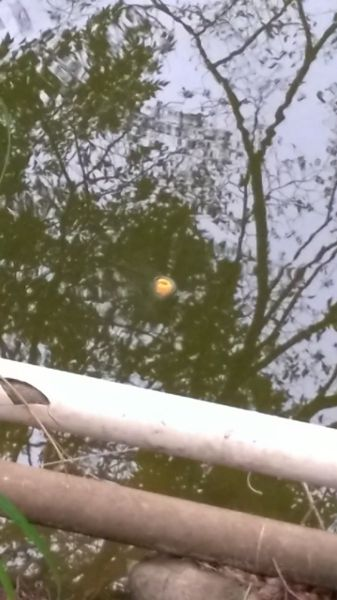eggs: (149, 274, 178, 299)
